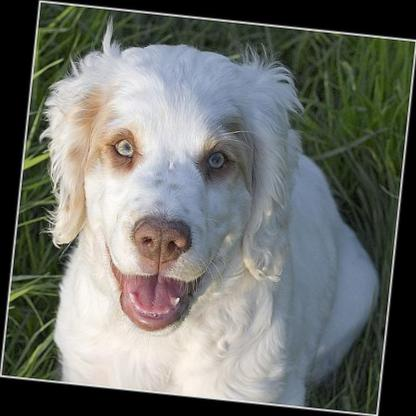clumber: (14, 10, 399, 413)
